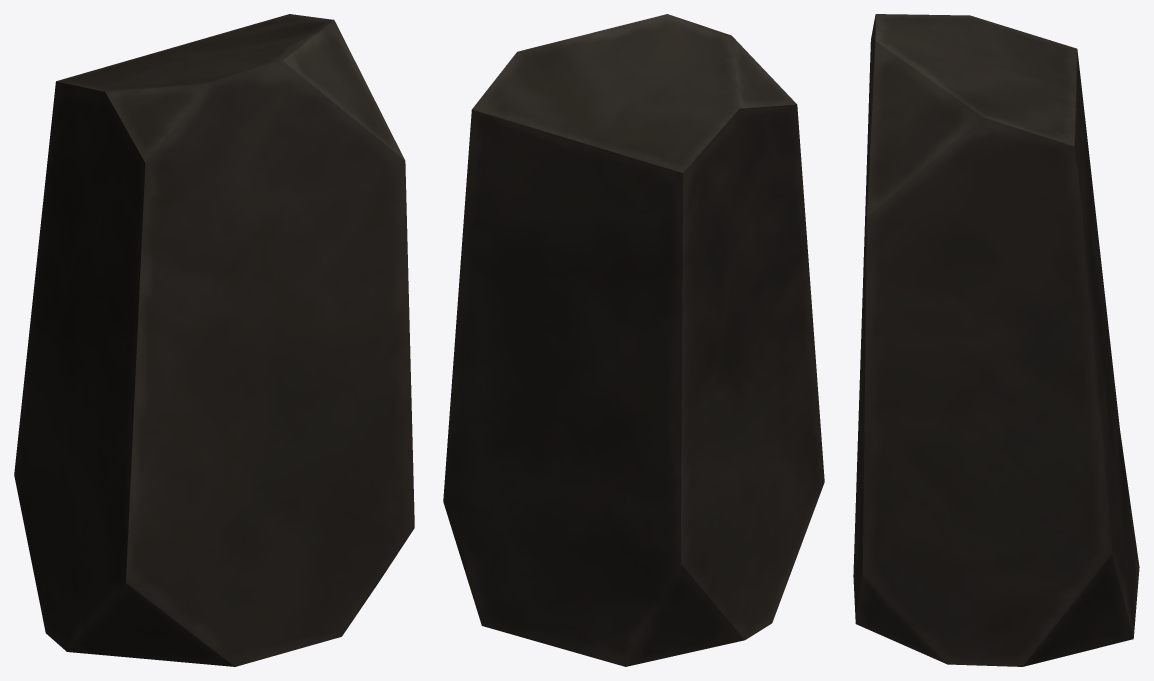
File: Stone6.FBX
The picture shows the model from 3 angles, left to right: view 1: azimuth 30°, elevation 25°; view 2: azimuth 150°, elevation 25°; view 3: azimuth 270°, elevation 25°; orthographic projection. The views are drawn at different scales.
Parts seen in each view (by area): view 1: Stone6; view 2: Stone6; view 3: Stone6.
Boxes of the visible parts, left/top/right/bottom form: Stone6: left=14, top=14, right=414, bottom=666; Stone6: left=443, top=14, right=824, bottom=666; Stone6: left=853, top=14, right=1139, bottom=666.
Size of the model in its own units: 3.57 by 6.7 by 3.05.
